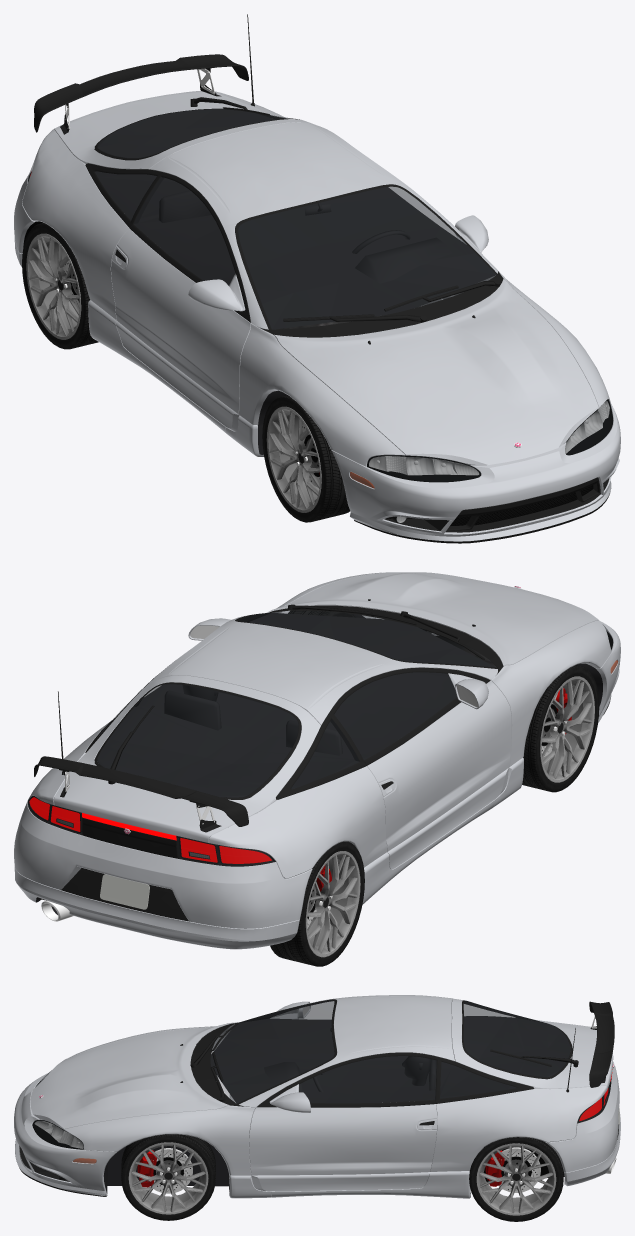
Rendered from hayate_hero.glb.
The picture shows the model from 3 angles, top to bottom: view 1: azimuth 30°, elevation 25°; view 2: azimuth 150°, elevation 25°; view 3: azimuth 270°, elevation 25°; orthographic projection. The views are drawn at different scales.
Visible parts, largest first — view 1: body, part_glass, part_trim_black, part_Azura_Plastic, wheel_FR, wheel_RR, part_Azura_Textures, wing; view 2: body, part_glass, part_trim_black, part_Azura_Plastic, wheel_FR, wheel_RR, wing, taillight_bar, part_Azura_Textures, part_Azura_Chrome; view 3: body, part_glass, part_trim_black, part_Azura_Plastic, wheel_FL, wheel_RL, wing, part_Azura_Textures, caliper_FL, caliper_RL.
Boxes of the visible parts, bbox=[...] form: body: bbox=[14, 91, 620, 541]; part_glass: bbox=[27, 108, 613, 522]; part_trim_black: bbox=[95, 109, 496, 454]; part_Azura_Plastic: bbox=[28, 14, 609, 543]; wheel_FR: bbox=[262, 395, 349, 522]; wheel_RR: bbox=[22, 223, 98, 349]; part_Azura_Textures: bbox=[23, 221, 613, 525]; wing: bbox=[34, 54, 248, 134]; body: bbox=[14, 572, 620, 949]; part_glass: bbox=[27, 611, 613, 866]; part_trim_black: bbox=[36, 613, 602, 914]; part_Azura_Plastic: bbox=[28, 599, 610, 921]; wheel_FR: bbox=[522, 665, 599, 792]; wheel_RR: bbox=[270, 841, 364, 966]; wing: bbox=[34, 756, 248, 832]; taillight_bar: bbox=[29, 797, 271, 863]; part_Azura_Textures: bbox=[57, 627, 617, 909]; part_Azura_Chrome: bbox=[41, 625, 478, 921]; body: bbox=[14, 995, 620, 1198]; part_glass: bbox=[32, 1000, 610, 1149]; part_trim_black: bbox=[103, 1000, 570, 1193]; part_Azura_Plastic: bbox=[19, 999, 618, 1196]; wheel_FL: bbox=[121, 1134, 215, 1220]; wheel_RL: bbox=[469, 1137, 563, 1221]; wing: bbox=[589, 1001, 614, 1087]; part_Azura_Textures: bbox=[32, 1078, 619, 1186]; caliper_FL: bbox=[137, 1148, 192, 1193]; caliper_RL: bbox=[485, 1147, 540, 1192].
Size of the model in its own units: 1.8 by 1.45 by 4.45.
Materials: 12 (3 with a texture image).
